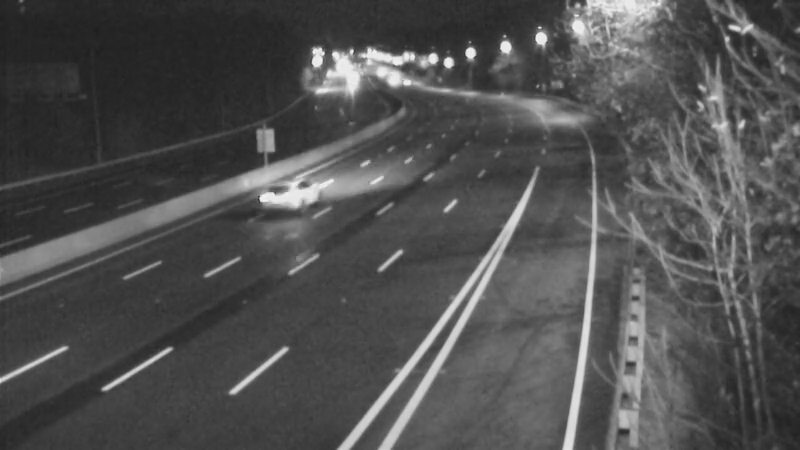vehicle: (241, 156, 321, 236), (366, 56, 416, 106), (383, 58, 433, 108)
